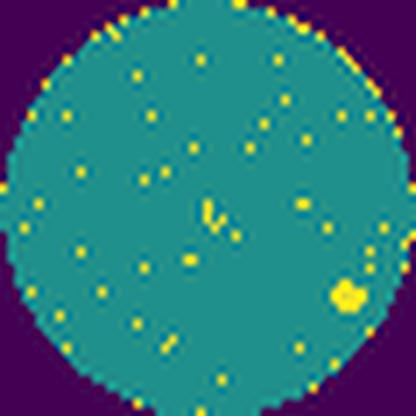Loc: (329, 276, 366, 312)
